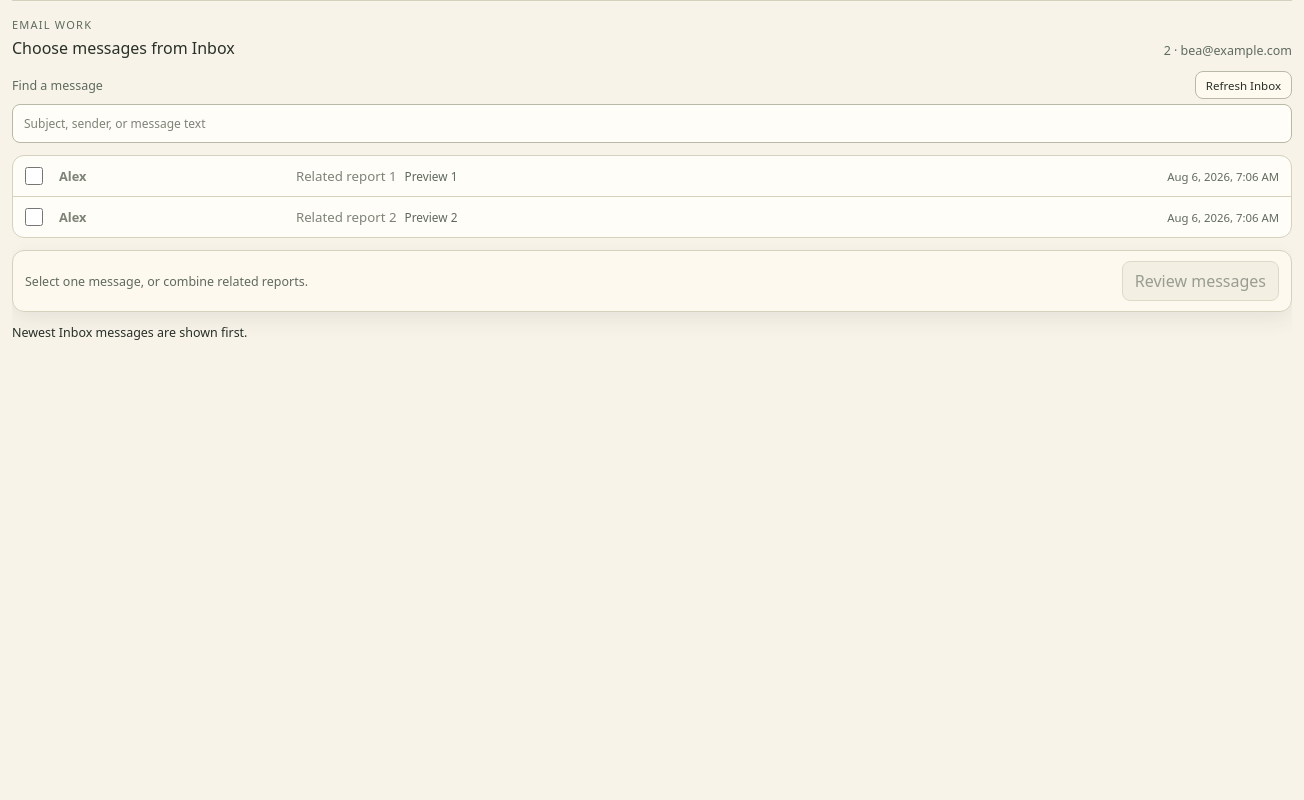
Test: opens multiple messages sequentially and retries a transient gateway response
The image size is (1304, 800).
What coordinates should you click on to do the following:
click the checkbox labelled "Alex Related report 1 Preview 1 Aug 6, 2026, 7:06 AM"
I would click on:
 (34, 176)
Its box is [25,166,43,186].
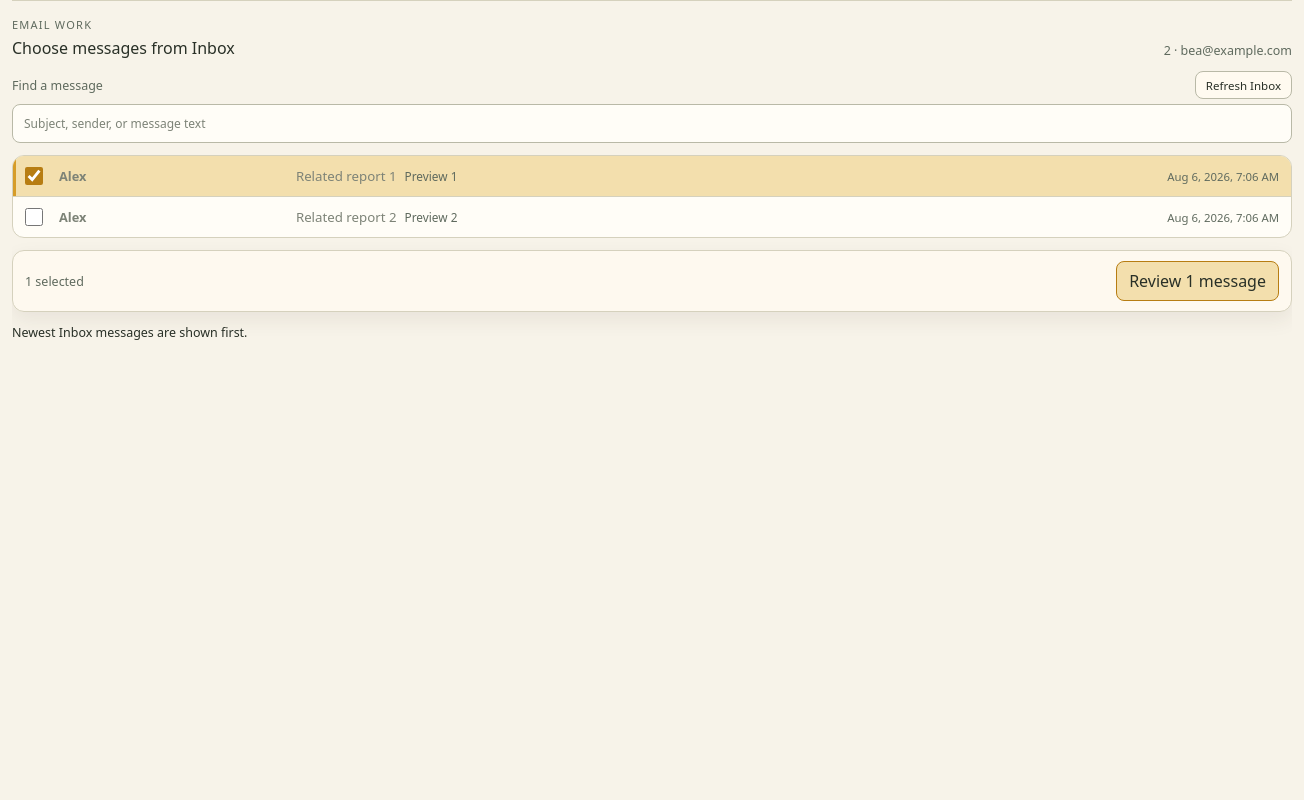
What coordinates should you click on to do the following:
click the checkbox labelled "Alex Related report 2 Preview 2 Aug 6, 2026, 7:06 AM"
I would click on:
 (34, 217)
Its box is [25,207,43,227].
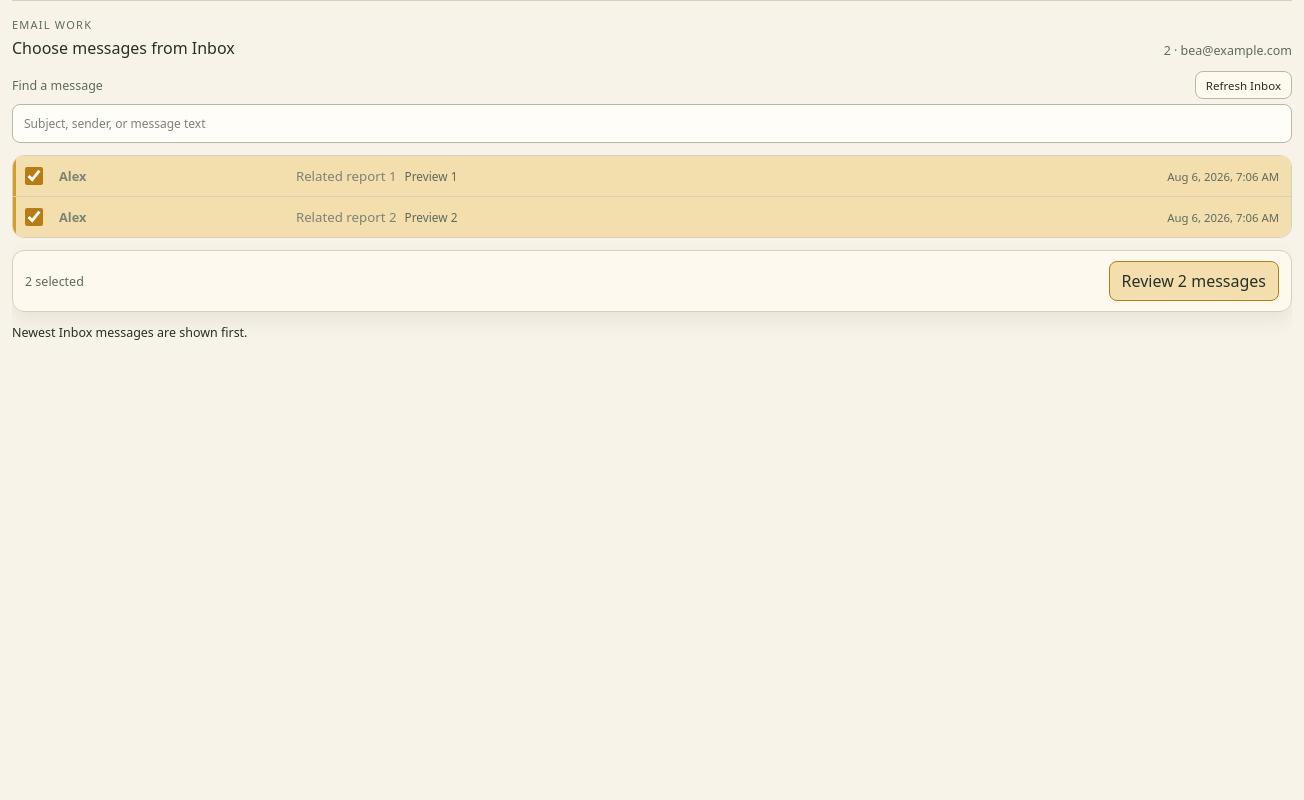
What coordinates should you click on to do the following:
click the button "Review 2 messages"
I would click on:
 (1194, 281)
Its box is [1108,261,1279,301].
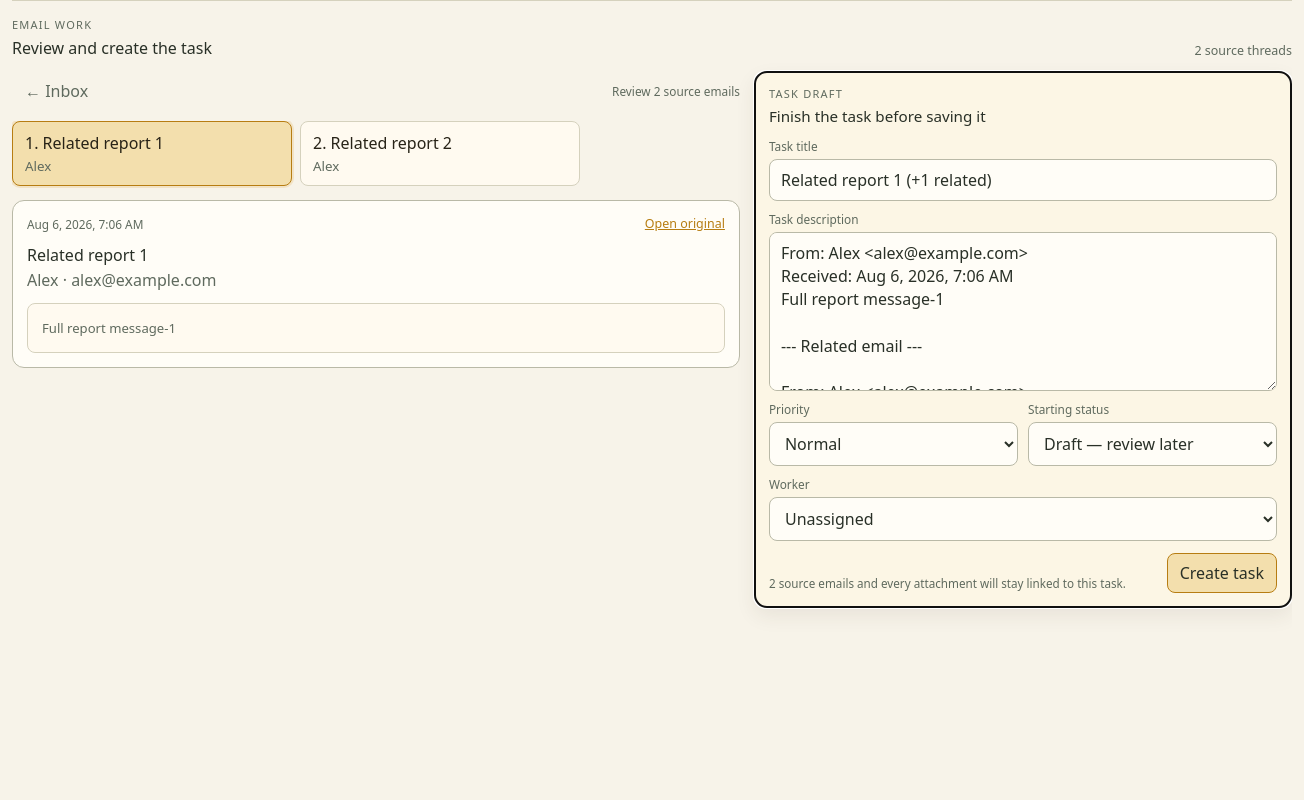
Now the text box showing "Full report message-2" is shown, box [769,232,1277,391]
Now the text "2 source threads" is shown, box [1194,42,1292,59]
